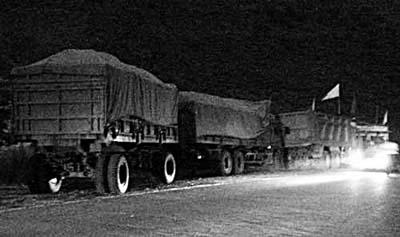chaozhai: (8, 43, 181, 197)
